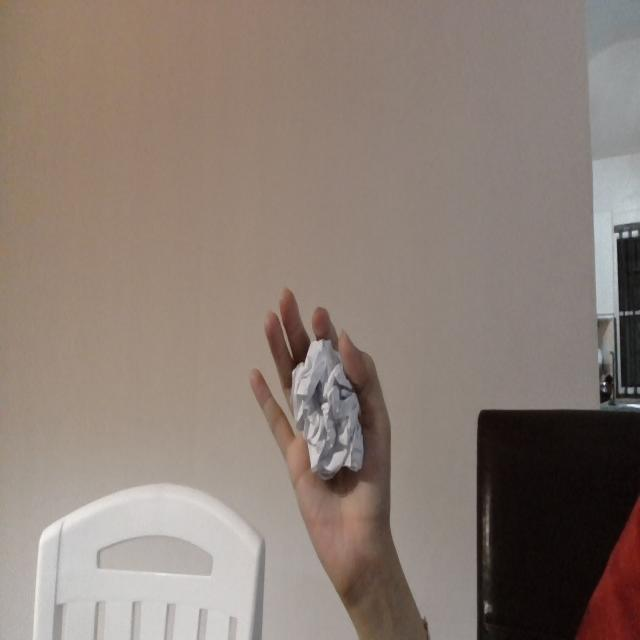crumpled_paper: (289, 326, 373, 486)
